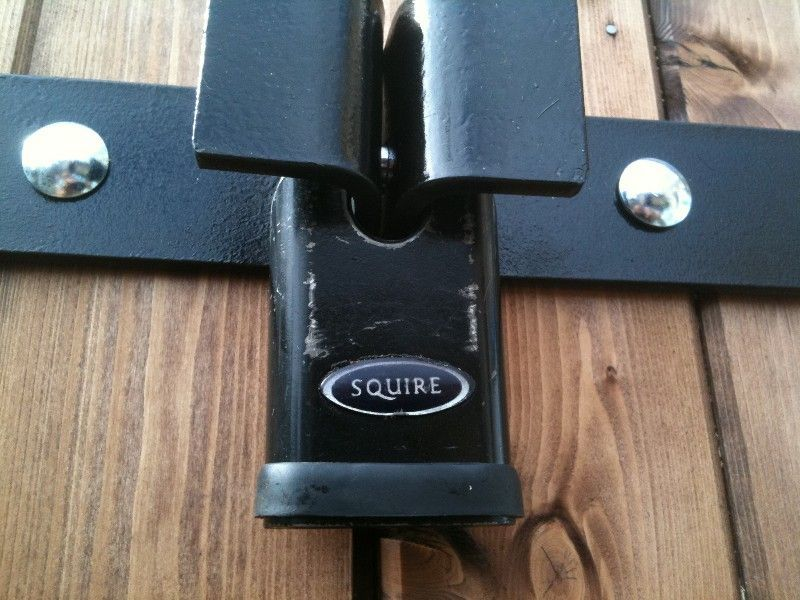rivet: (20, 119, 111, 205), (616, 155, 695, 231)
